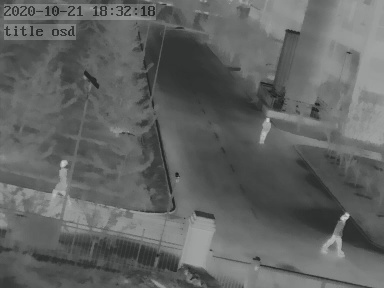person: (328, 206, 348, 256), (53, 159, 69, 200), (258, 116, 271, 146)
